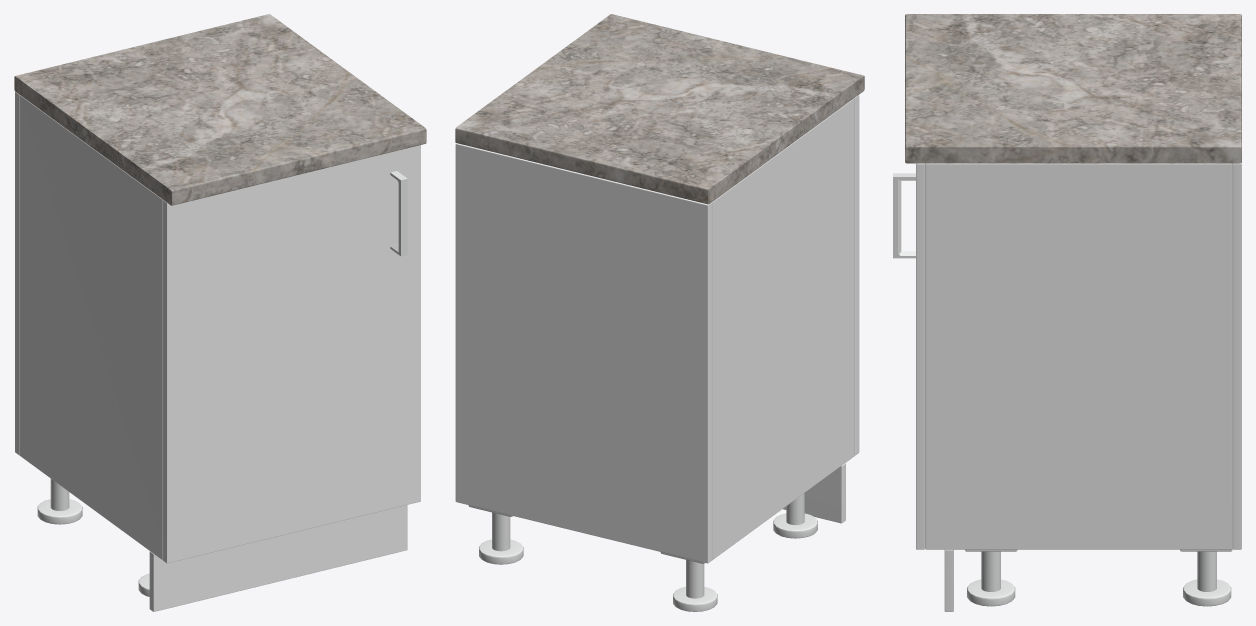
File: main_cabinet.glb
3 renders of one model, left to right at view 1: azimuth 30°, elevation 25°; view 2: azimuth 150°, elevation 25°; view 3: azimuth 270°, elevation 25°, orthographic. The views are drawn at different scales.
Visible parts, largest first — view 1: Object_4, Object_3, Object_2, Object_6, Object_7, Object_5; view 2: Object_3, Object_2, Object_7, Object_4, Object_6; view 3: Object_3, Object_2, Object_4, Object_7, Object_5, Object_6.
Part boxes in pixels (x1=…): Object_4: x1=163, y1=145, x2=420, y2=563; Object_3: x1=15, y1=92, x2=162, y2=559; Object_2: x1=14, y1=14, x2=426, y2=205; Object_6: x1=149, y1=505, x2=407, y2=611; Object_7: x1=37, y1=479, x2=149, y2=596; Object_5: x1=390, y1=171, x2=407, y2=256; Object_3: x1=455, y1=98, x2=854, y2=563; Object_2: x1=455, y1=14, x2=864, y2=204; Object_7: x1=479, y1=493, x2=817, y2=611; Object_4: x1=854, y1=95, x2=859, y2=455; Object_6: x1=783, y1=463, x2=845, y2=523; Object_3: x1=925, y1=162, x2=1241, y2=549; Object_2: x1=905, y1=14, x2=1241, y2=163; Object_4: x1=916, y1=163, x2=925, y2=549; Object_7: x1=967, y1=551, x2=1231, y2=606; Object_5: x1=893, y1=173, x2=915, y2=258; Object_6: x1=944, y1=549, x2=953, y2=611.
Bounding box in the file's own units: 55.97 × 91.48 × 62.13.
7 materials, 7 textured.
